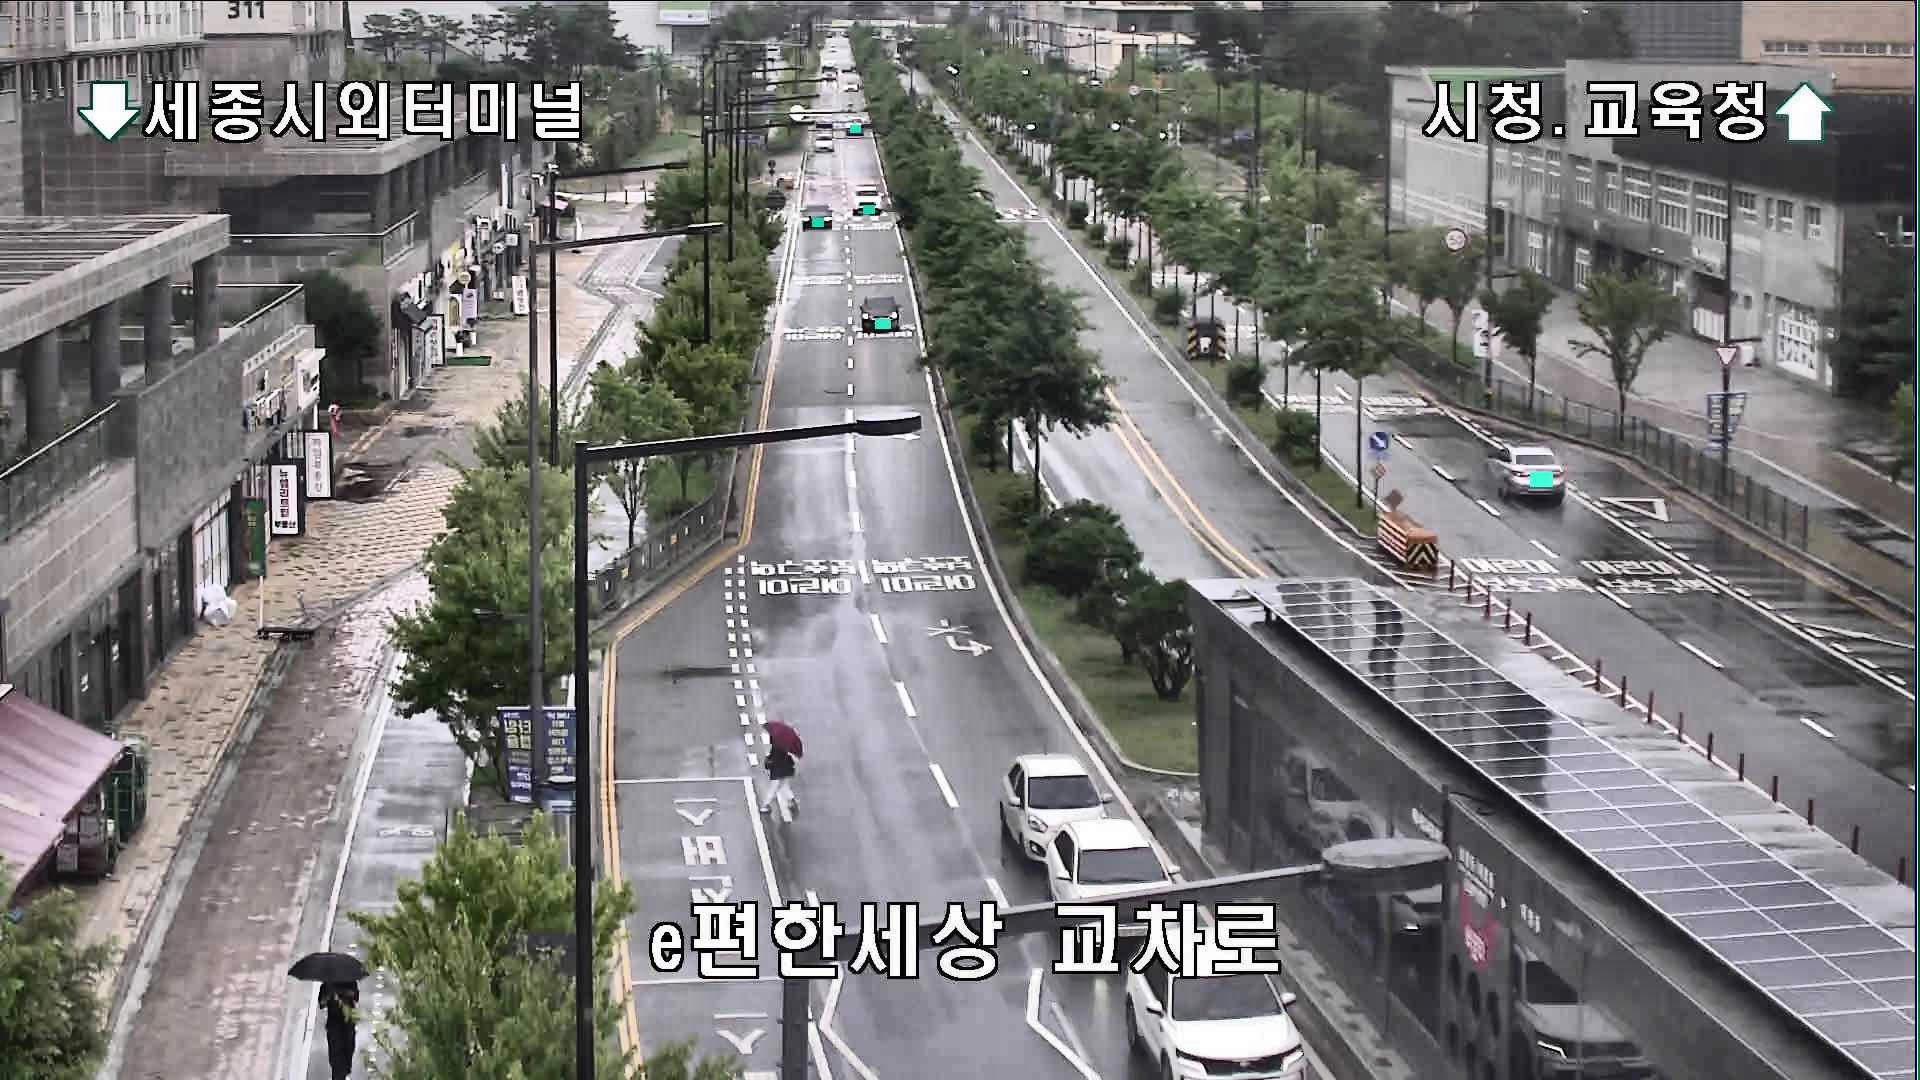um_jaywalk: (756, 719, 804, 827)
um_sidewalk: (285, 953, 368, 1080)
